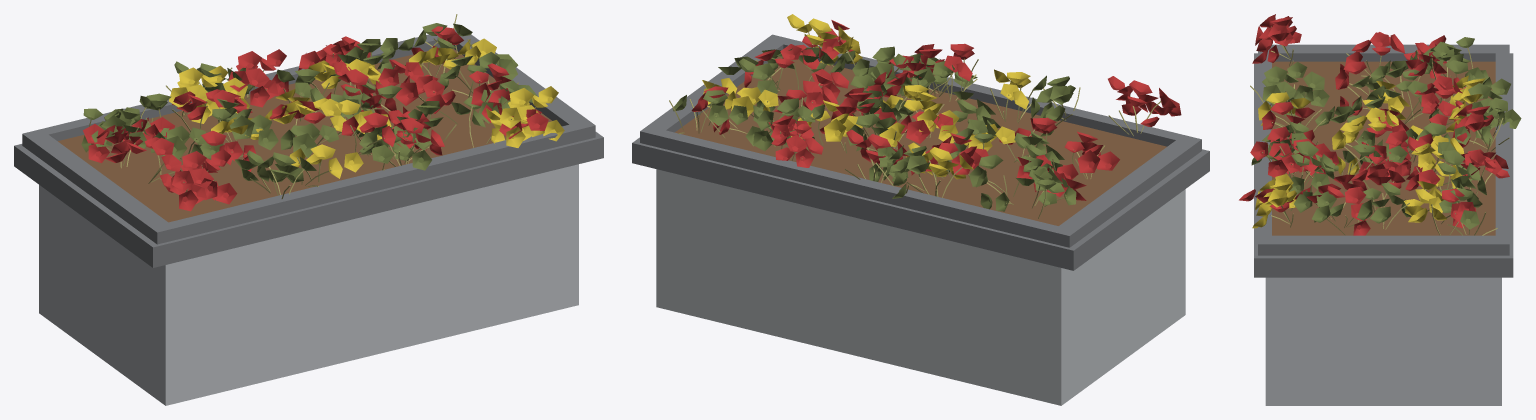
Rendered from SM_flowerbox_large_02.fbx.
The picture shows the model from 3 angles, left to right: view 1: azimuth 30°, elevation 25°; view 2: azimuth 150°, elevation 25°; view 3: azimuth 270°, elevation 25°; orthographic projection. The views are drawn at different scales.
Parts seen in each view (by area): view 1: Box232; view 2: Box232; view 3: Box232.
Boxes of the visible parts, x1=… form: Box232: x1=14, y1=14, x2=603, y2=405; Box232: x1=632, y1=14, x2=1209, y2=405; Box232: x1=1239, y1=14, x2=1521, y2=405.
Bounding box in the file's own units: 94.65 × 55.2 × 47.04.
